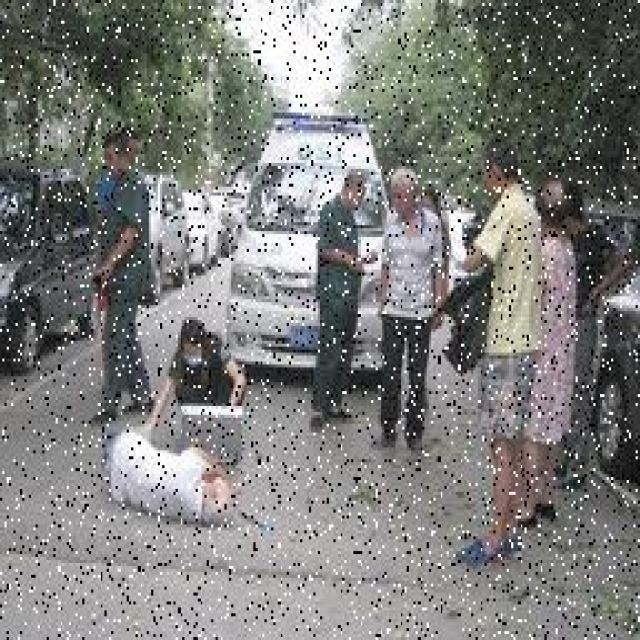fall: (91, 424, 238, 530)
